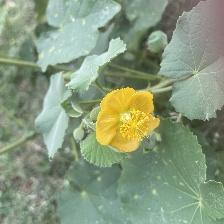indian mallow: (94, 85, 162, 156)
